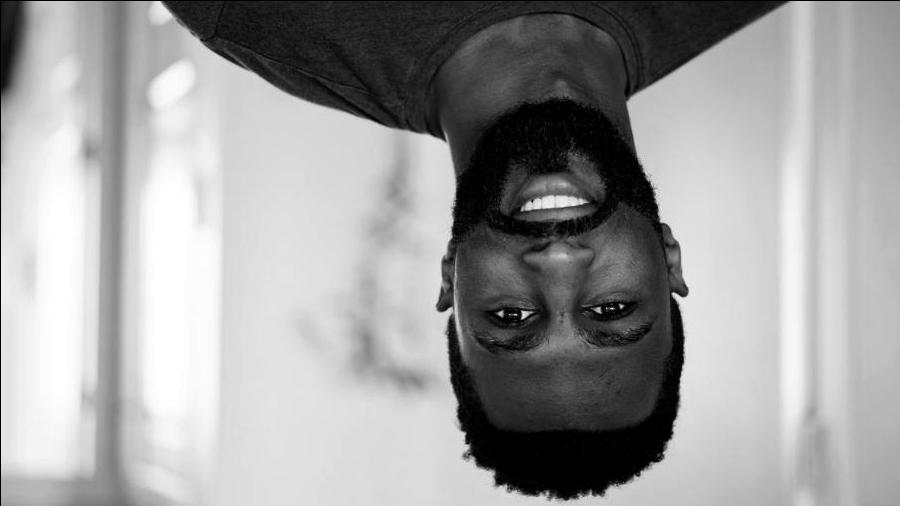bar: (454, 96, 665, 265)
